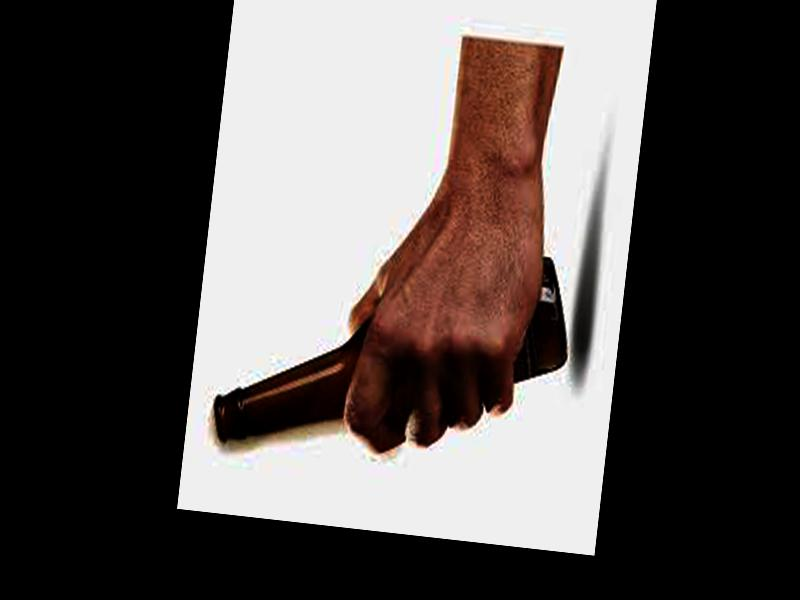Beer: (211, 222, 582, 479)
